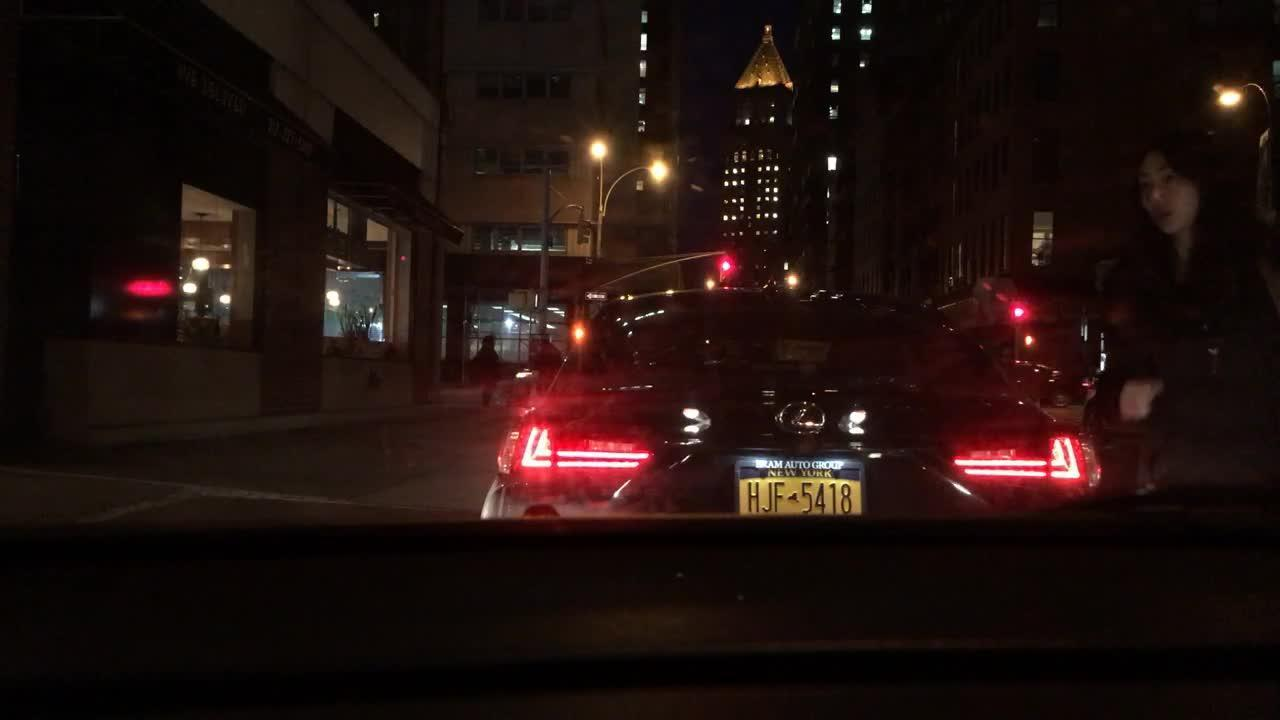lexus: (772, 396, 830, 440)
